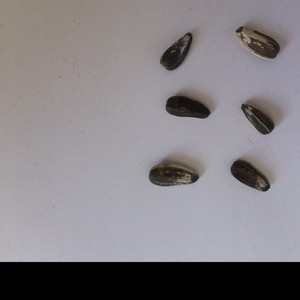girasol: (233, 23, 282, 61), (229, 157, 273, 195), (145, 160, 201, 189), (158, 29, 194, 74), (238, 102, 279, 140), (162, 94, 212, 121)
